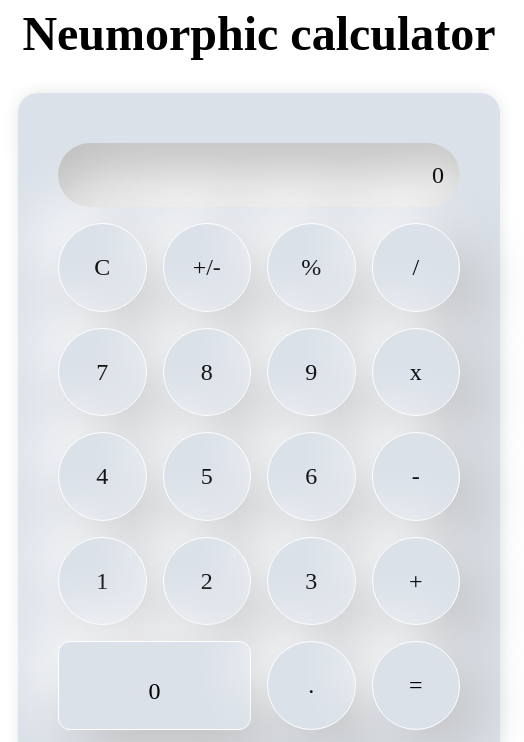
Test case: arithmetic operations › 1 -> -1
The width and height of the screenshot is (524, 742).
What coordinates should you click on to do the following:
click the button with test id "1"
I would click on:
 (103, 582)
Its box is [58,537,147,626].
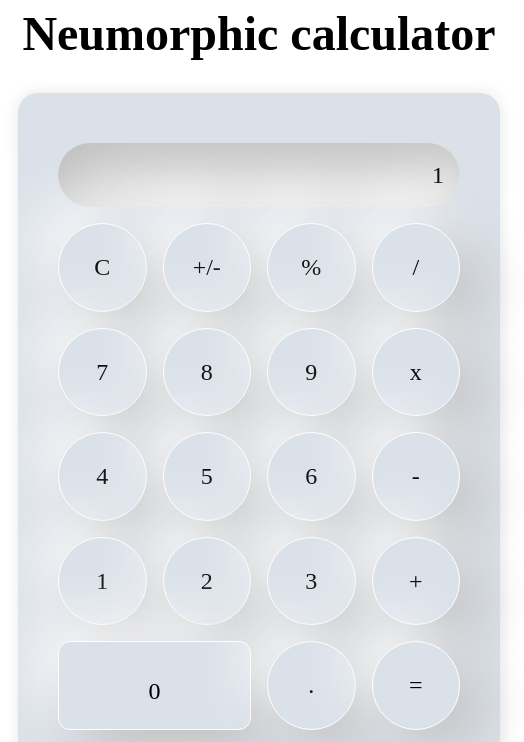
What coordinates should you click on to do the following:
click the button with test id "+/-"
I would click on:
 (208, 268)
Its box is [163,223,252,312].
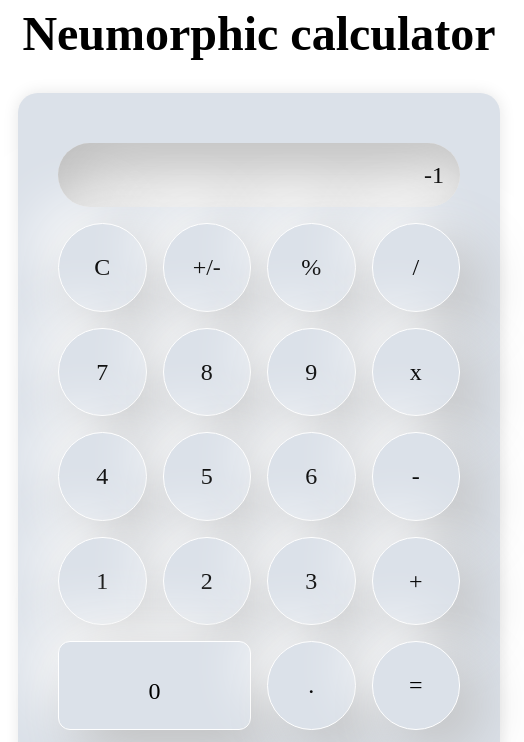
Expected: the text "-1" is shown, [58,143,460,207]
